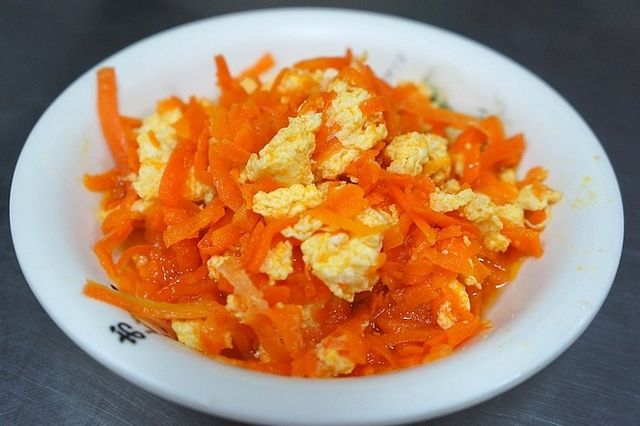carrot_eggs: (95, 55, 563, 375), (309, 75, 543, 246), (122, 196, 349, 369), (314, 228, 512, 364), (155, 90, 327, 214)
